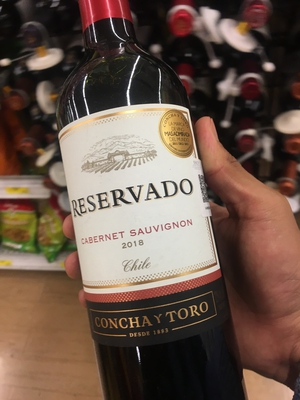reservado cabernet sauvignon: (58, 10, 237, 400)
